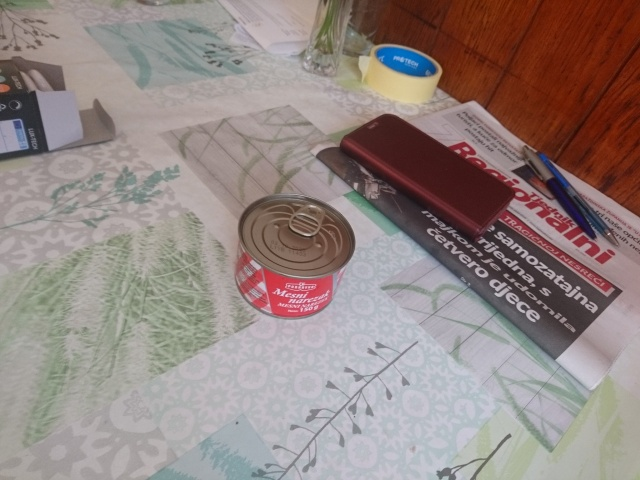Podravka Luncheon Meat 150g: (232, 190, 359, 322)
